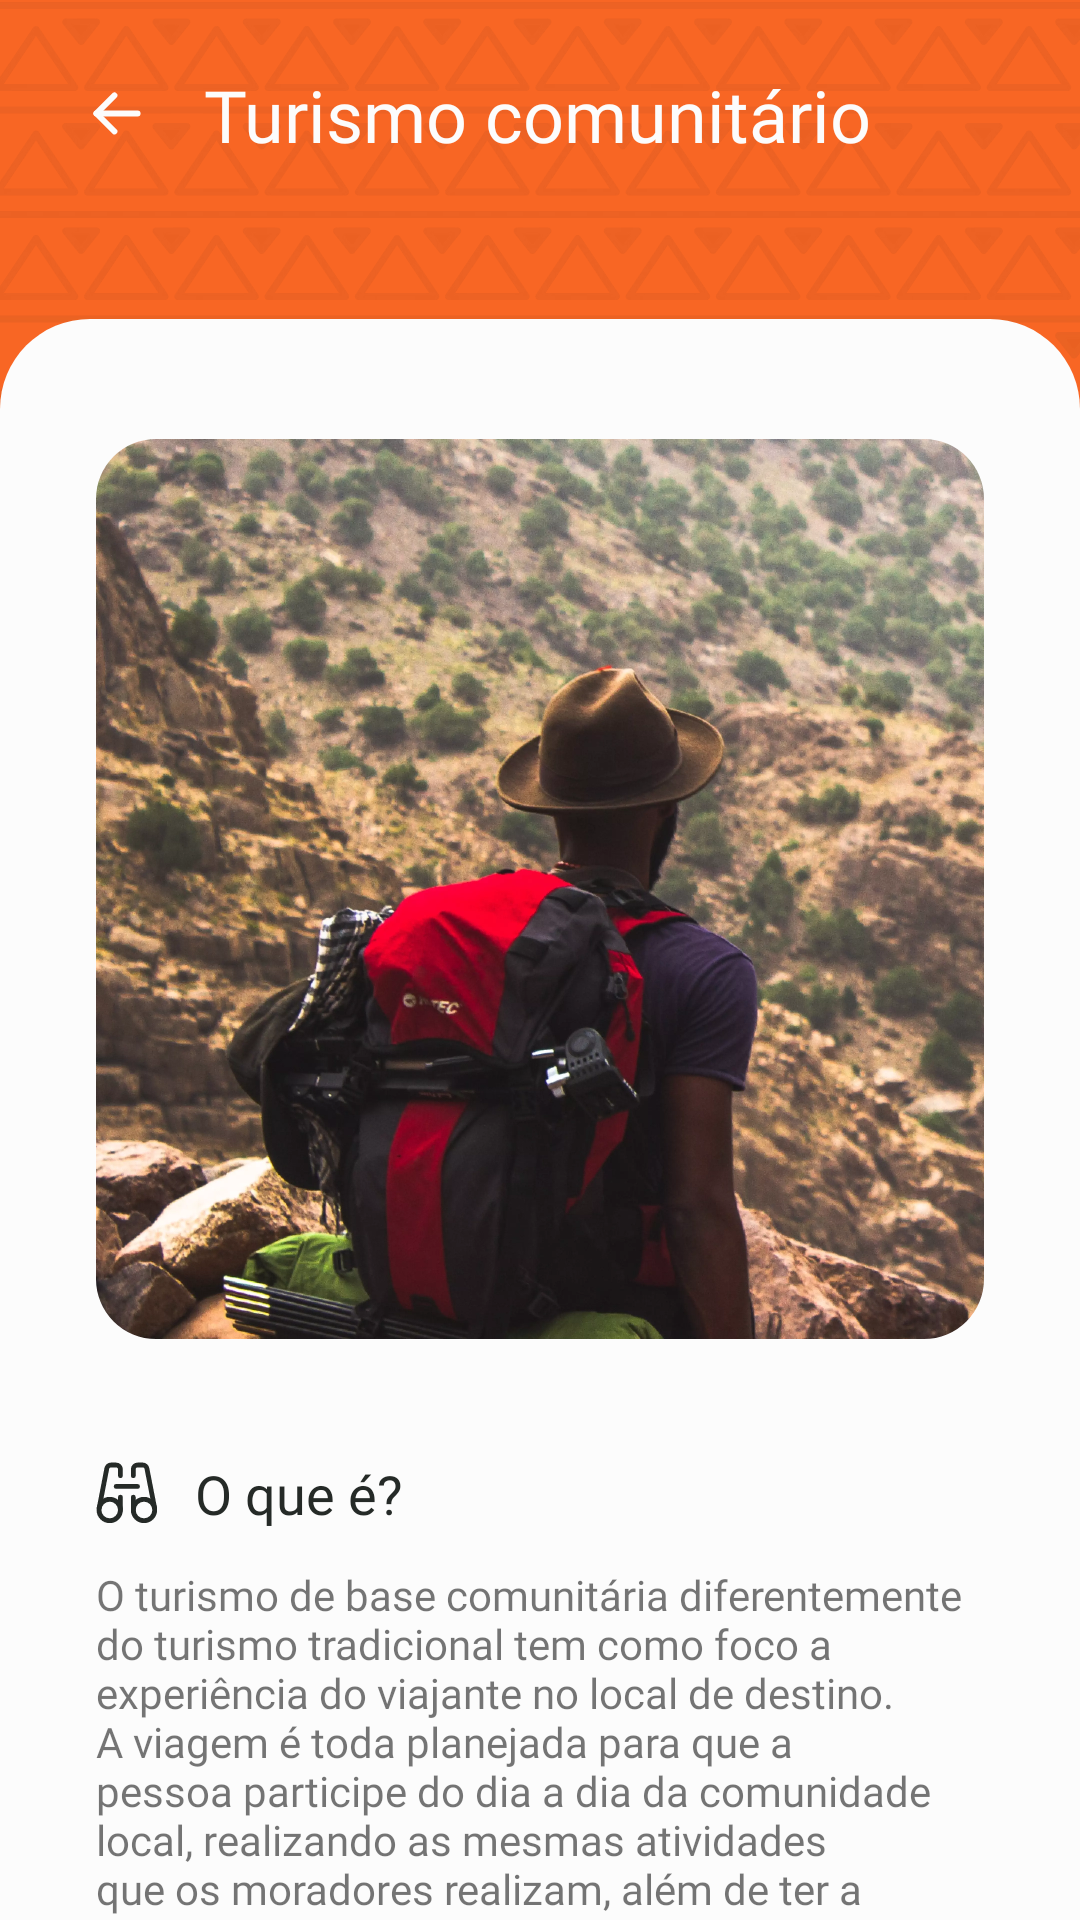

Icon bounding boxes for this 1080px x 1920px phone screenshot, format (x1, y1, x2, y2):
binoculars: (96, 1462, 157, 1523)
